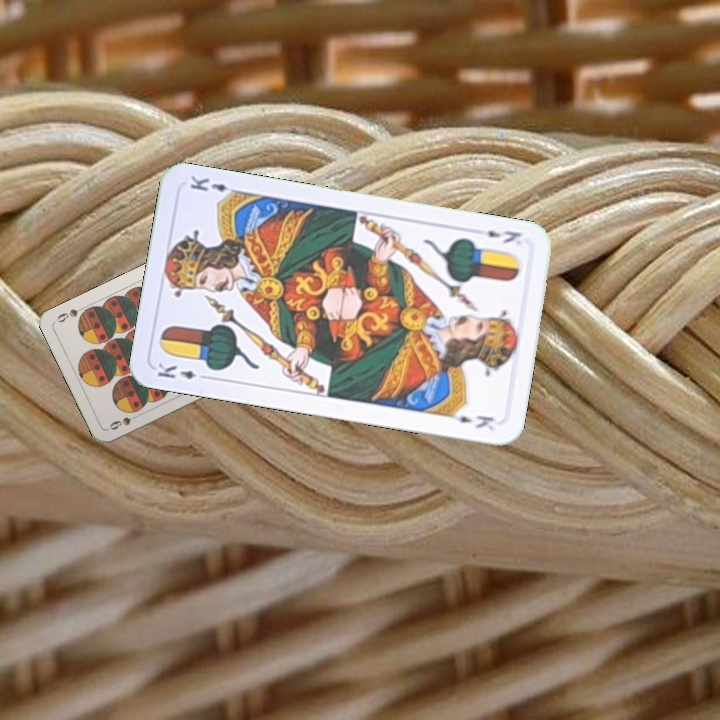EK: (153, 359, 212, 382), (483, 226, 524, 246)
S9: (105, 409, 143, 432)
